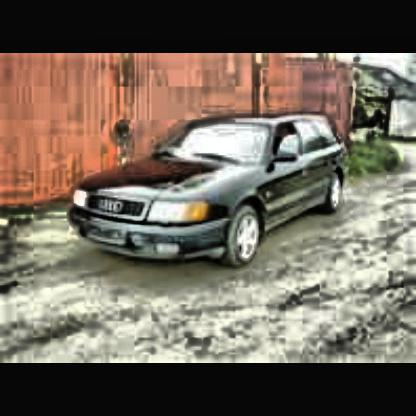Audi 100 Wagon 1994: (73, 112, 360, 271)
